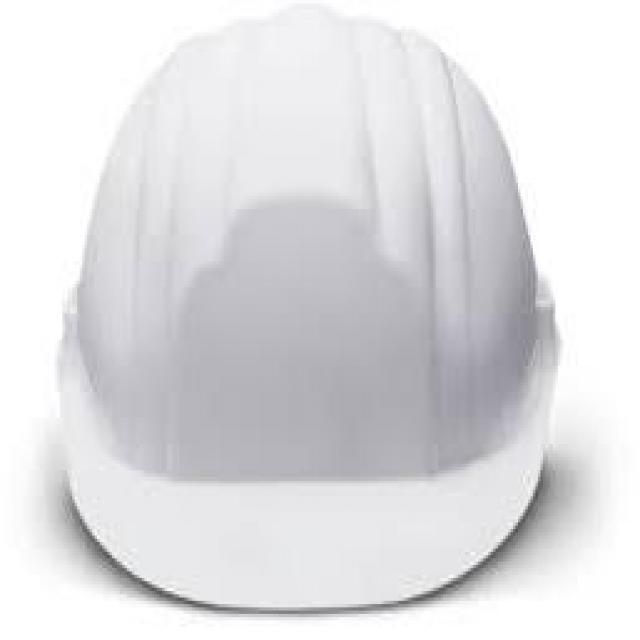Safety-Helmet: (5, 10, 593, 617)
